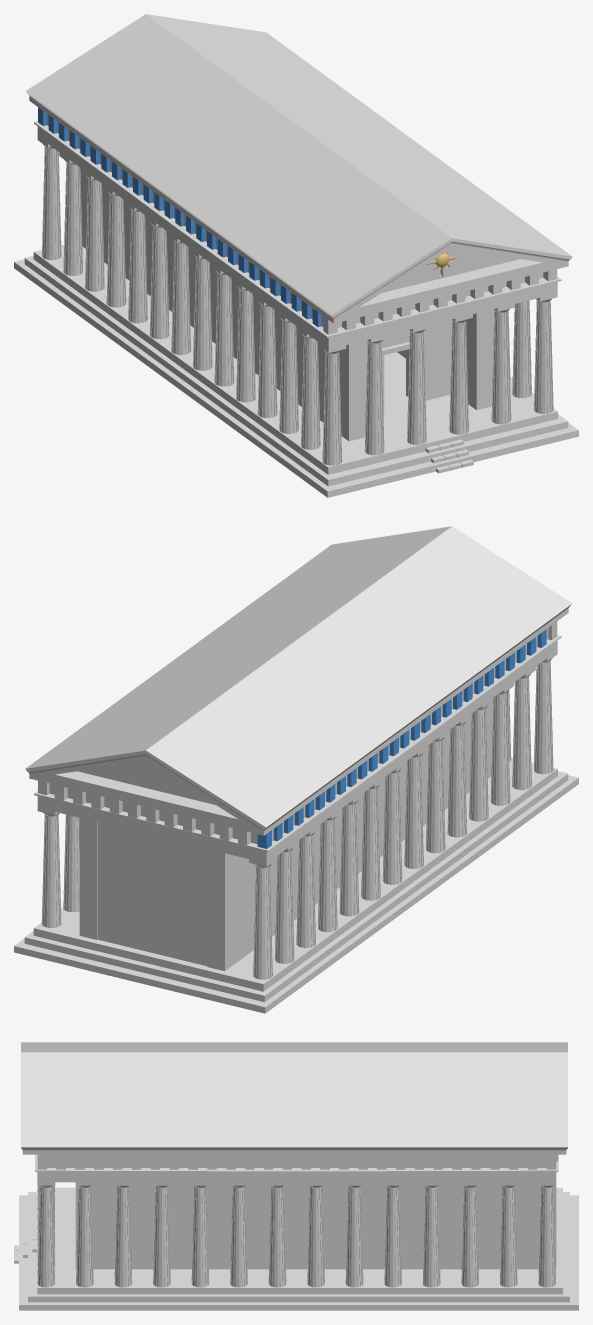
Rendered from Apollo temple.fbx.
3 renders of one model, top to bottom at view 1: azimuth 30°, elevation 25°; view 2: azimuth 150°, elevation 25°; view 3: azimuth 270°, elevation 25°, orthographic. The views are drawn at different scales.
Parts seen in each view (by area): view 1: Cube.024, Cylinder.006, Cube.033, Cube.022, Cube.025, Cube.035, Cube.034, Cube.030, Cube.028, Cube.026, Cube.029, Cube.021 (+2 smaller); view 2: Cube.024, Cylinder.006, Cube.027, Cube.025, Cube.033, Cube.022, Cube.035, Cube.034, Cube.030, Cube.026, Cube.032, Cube.023 (+1 smaller); view 3: Cube.024, Cube.026, Cylinder.006, Cube.033, Cube.022, Cube.035, Cube.034, Cube.031, Cube.023, Cube.021.
Boxes of the visible parts, x1=… form: Cube.024: x1=25, y1=14, x2=572, y2=323; Cylinder.006: x1=42, y1=144, x2=553, y2=465; Cube.033: x1=33, y1=244, x2=557, y2=474; Cube.022: x1=34, y1=121, x2=561, y2=349; Cube.025: x1=80, y1=168, x2=366, y2=441; Cube.035: x1=14, y1=259, x2=578, y2=497; Cube.034: x1=24, y1=255, x2=568, y2=486; Cube.030: x1=38, y1=107, x2=321, y2=326; Cube.028: x1=366, y1=319, x2=452, y2=413; Cube.026: x1=397, y1=309, x2=494, y2=410; Cube.029: x1=323, y1=269, x2=557, y2=334; Cube.021: x1=37, y1=137, x2=557, y2=352; Cube.024: x1=25, y1=526, x2=572, y2=835; Cylinder.006: x1=41, y1=658, x2=553, y2=979; Cube.027: x1=98, y1=822, x2=207, y2=966; Cube.025: x1=207, y1=698, x2=493, y2=971; Cube.033: x1=33, y1=757, x2=557, y2=991; Cube.022: x1=34, y1=635, x2=561, y2=863; Cube.035: x1=14, y1=775, x2=578, y2=1013; Cube.034: x1=24, y1=771, x2=568, y2=1002; Cube.030: x1=257, y1=629, x2=546, y2=848; Cube.026: x1=79, y1=818, x2=97, y2=939; Cube.032: x1=54, y1=785, x2=250, y2=845; Cube.023: x1=49, y1=628, x2=548, y2=844; Cube.024: x1=21, y1=1042, x2=567, y2=1154; Cube.026: x1=75, y1=1182, x2=556, y2=1269; Cylinder.006: x1=37, y1=1185, x2=555, y2=1287; Cube.033: x1=37, y1=1187, x2=562, y2=1294; Cube.022: x1=35, y1=1154, x2=558, y2=1182; Cube.035: x1=19, y1=1195, x2=578, y2=1310; Cube.034: x1=28, y1=1192, x2=569, y2=1302; Cube.031: x1=56, y1=1154, x2=556, y2=1169; Cube.023: x1=47, y1=1154, x2=546, y2=1167; Cube.021: x1=37, y1=1182, x2=556, y2=1185.
Size of the model in its own units: 2840 by 2464 by 6197.
